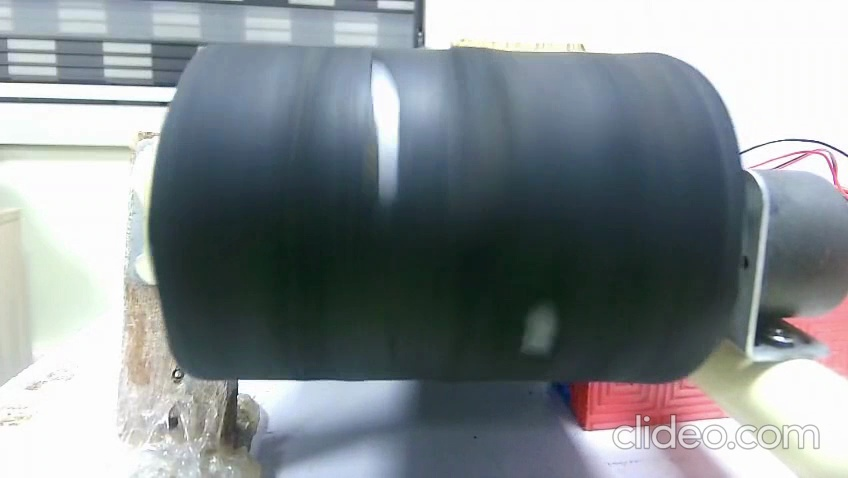hole: (362, 58, 410, 208), (510, 303, 564, 357)
